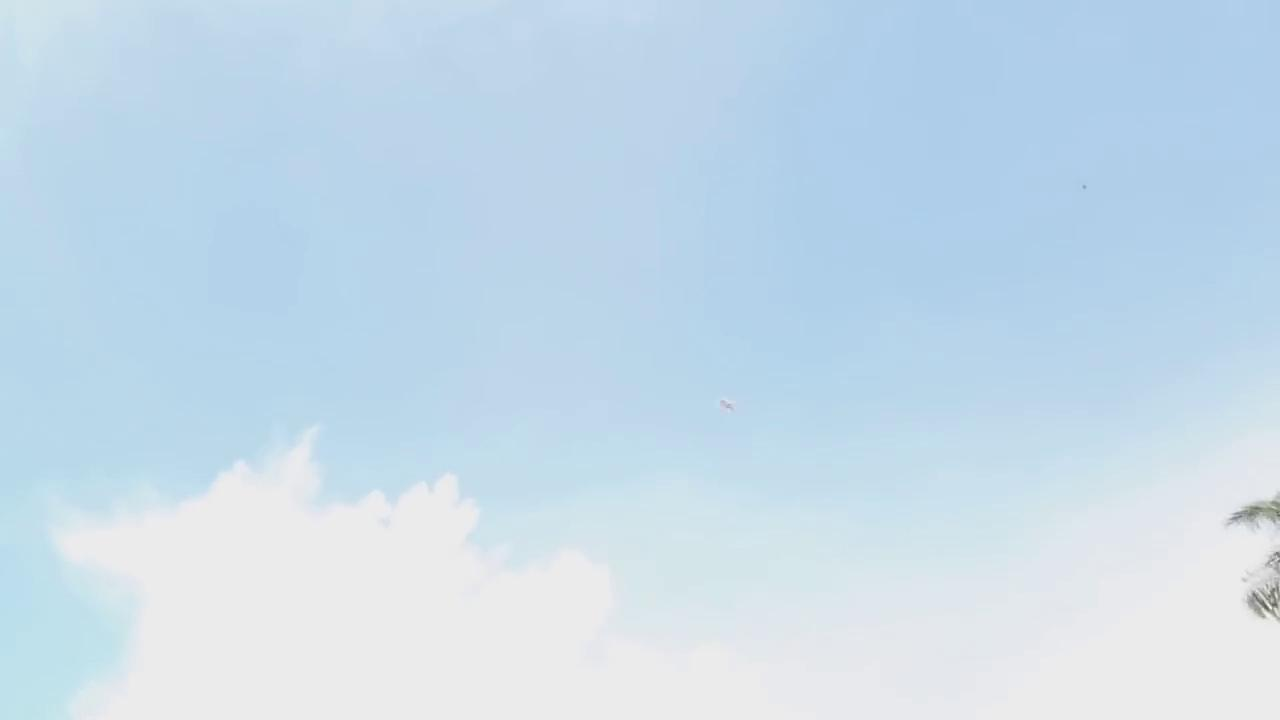drone: (706, 392, 740, 413)
